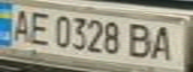0: (51, 12, 72, 50)
2: (84, 16, 106, 54)
3: (66, 15, 87, 52)
8: (103, 18, 127, 56)
A: (148, 24, 184, 62), (6, 7, 36, 43)
B: (124, 20, 157, 60)
E: (24, 9, 54, 46)
